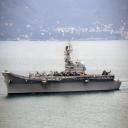Portanaves: (2, 41, 125, 97)
